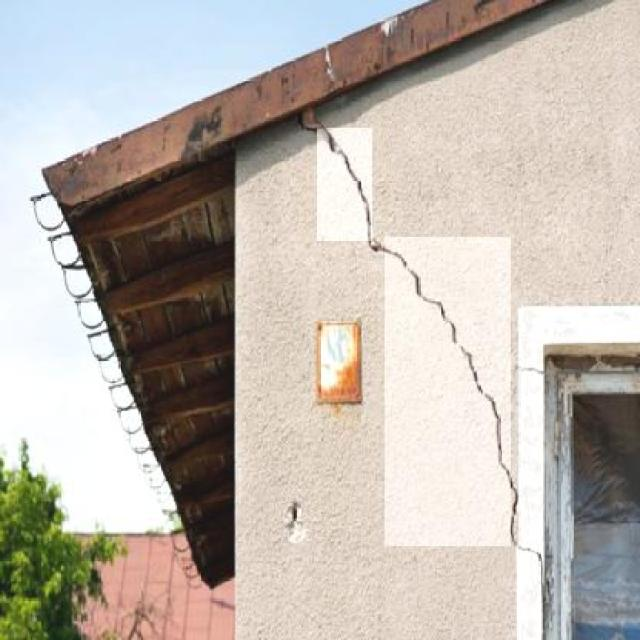Crack: (387, 242, 513, 542), (321, 129, 373, 242), (524, 521, 547, 597), (521, 356, 543, 382)
